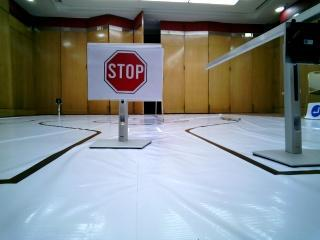stop: (93, 43, 159, 99)
